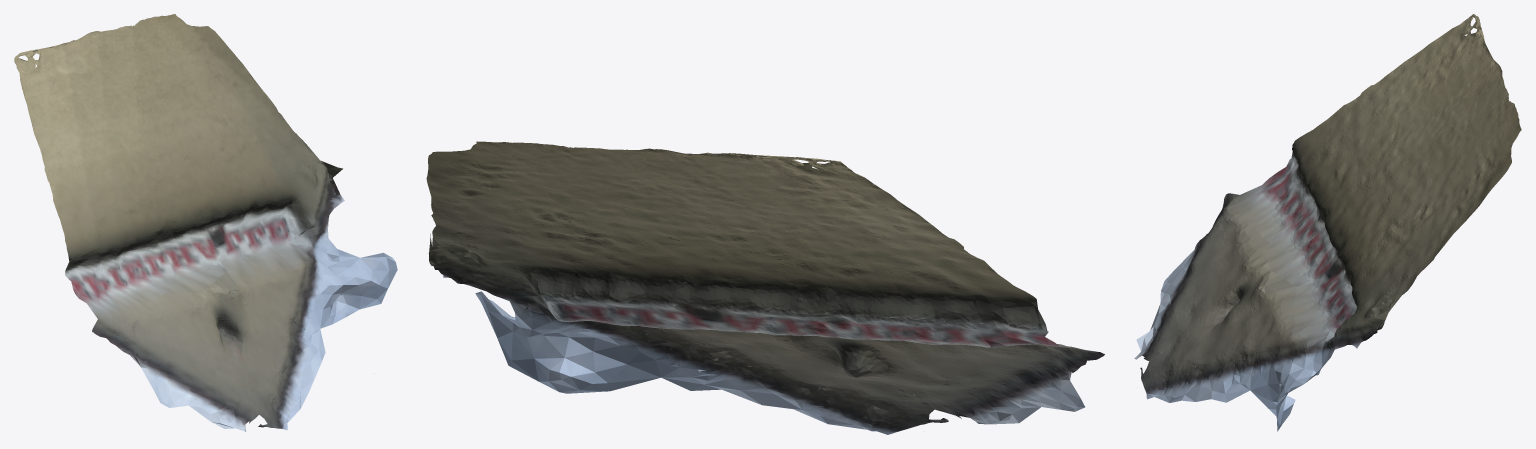
The model's file is texturedMesh.obj.
3 renders of one model, left to right at view 1: azimuth 30°, elevation 25°; view 2: azimuth 150°, elevation 25°; view 3: azimuth 270°, elevation 25°, orthographic. The views are drawn at different scales.
Visible parts, largest first — view 1: TexturedMesh; view 2: TexturedMesh; view 3: TexturedMesh.
Part boxes in pixels (x1=…): TexturedMesh: x1=14, y1=14, x2=397, y2=431; TexturedMesh: x1=426, y1=141, x2=1104, y2=434; TexturedMesh: x1=1134, y1=14, x2=1521, y2=431.
Bounding box in the file's own units: 2.82 × 2.42 × 2.64.
Materials: 1 (1 with a texture image).
